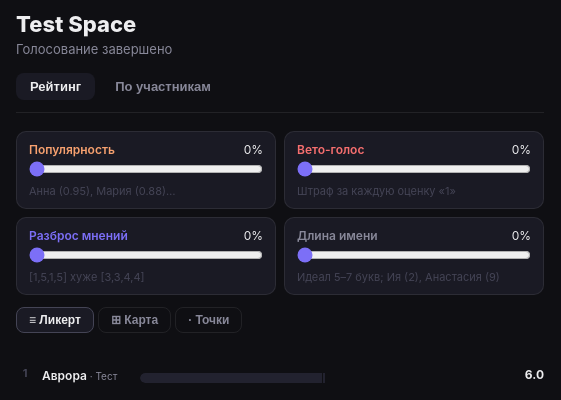
Test: ResultsView — rating lookups survive a corrupt/out-of-range score (task #11 / M18) › does NOT crash on an out-of-range score — strip view
Click the button "· Точки" at (209, 320), box [175,307,242,333]
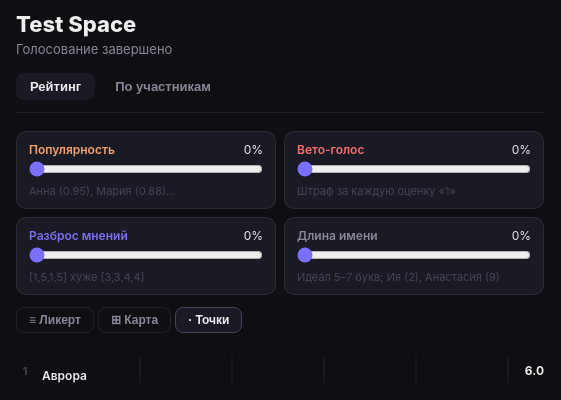
Expected: the element with class "strip-row" is shown, [23,363,544,383]
